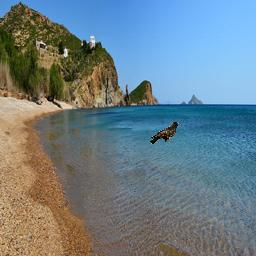Crow: (150, 121, 181, 145)
